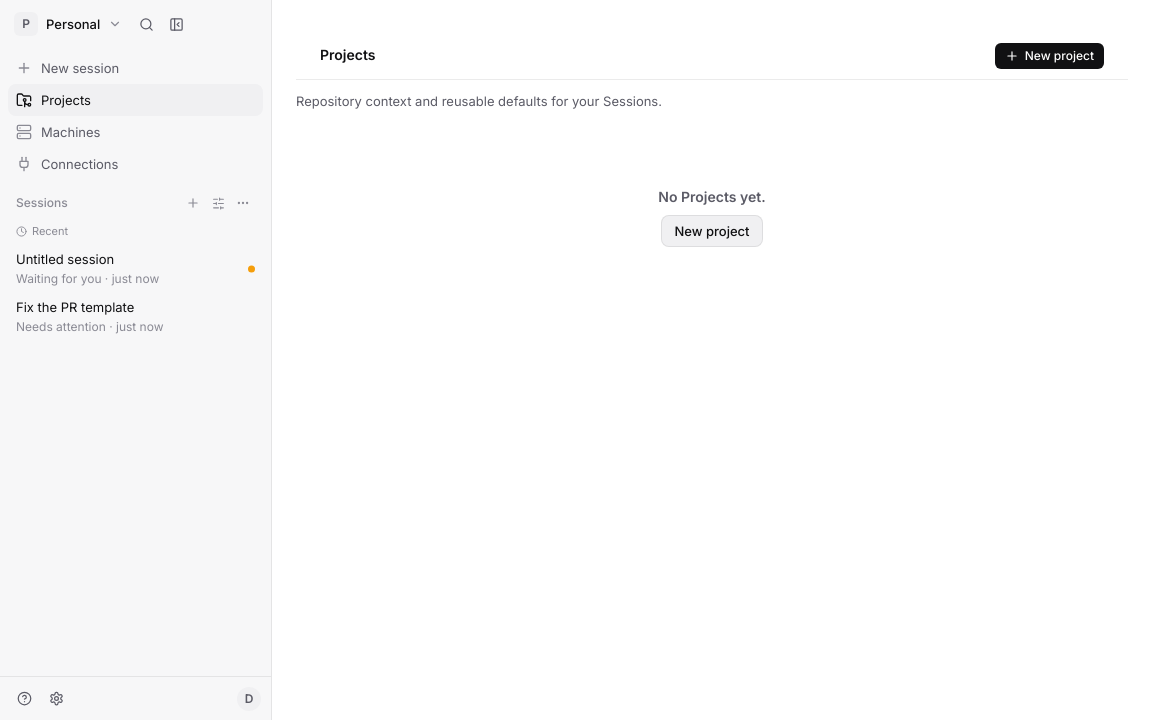
Scenario: restored auth and shell interactions › shell navigation reflects the route and real Session state
Expected: the link "Untitled session Waiting for you · just now" is shown, [8,245,263,293]
Expected: the link "Fix the PR template Needs attention · just now" is shown, [16,299,164,334]
Click the 2nd button named "Search sessions" at (218, 203), box [206,191,230,215]
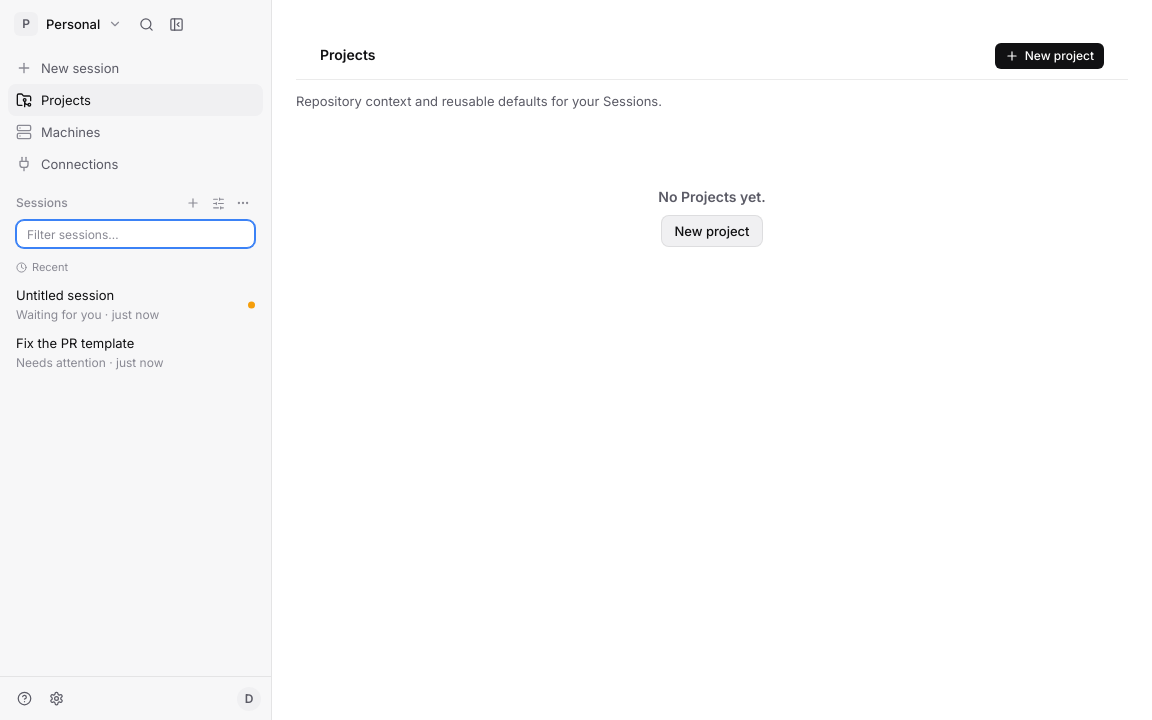
Type "PR template" into the field labelled "Filter sessions…" at (136, 234), box [16,220,255,248]
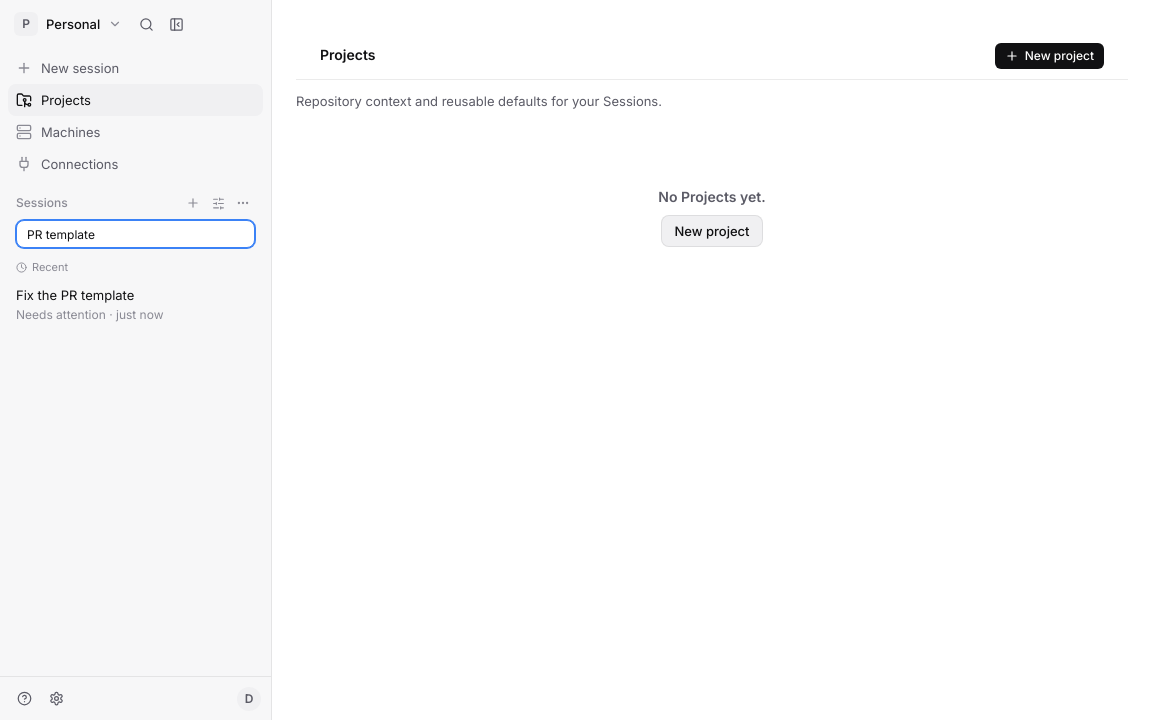
Expected: the link "Fix the PR template Needs attention · just now" is shown, [16,287,164,322]
Result: the link "Untitled session" is gone
